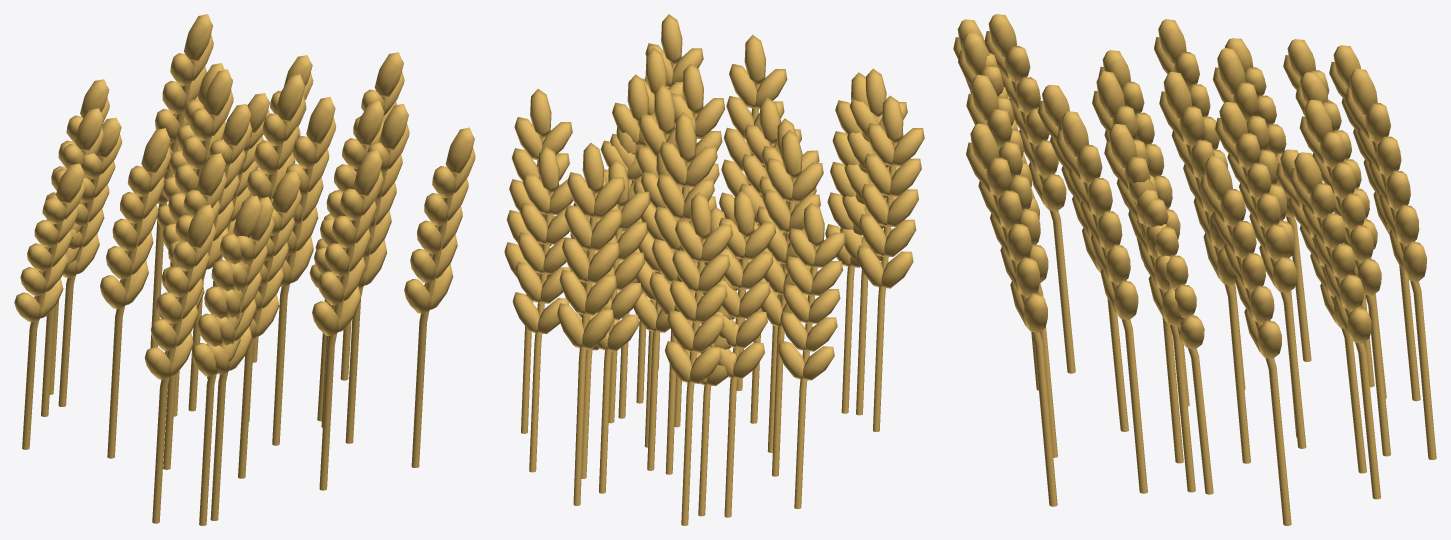
Rendered from Sliced Wheat.fbx.
3 views of the same model, side by side, from view 1: azimuth 30°, elevation 25°; view 2: azimuth 150°, elevation 25°; view 3: azimuth 270°, elevation 25° (orthographic). The views are drawn at different scales.
Visible parts, largest first — view 1: Grid.001; view 2: Grid.001; view 3: Grid.001.
Part boxes in pixels (<box>): Grid.001: <box>14,14,475,525</box>; Grid.001: <box>504,14,924,525</box>; Grid.001: <box>953,14,1436,525</box>.
Size of the model in its own units: 227 by 218 by 237.
